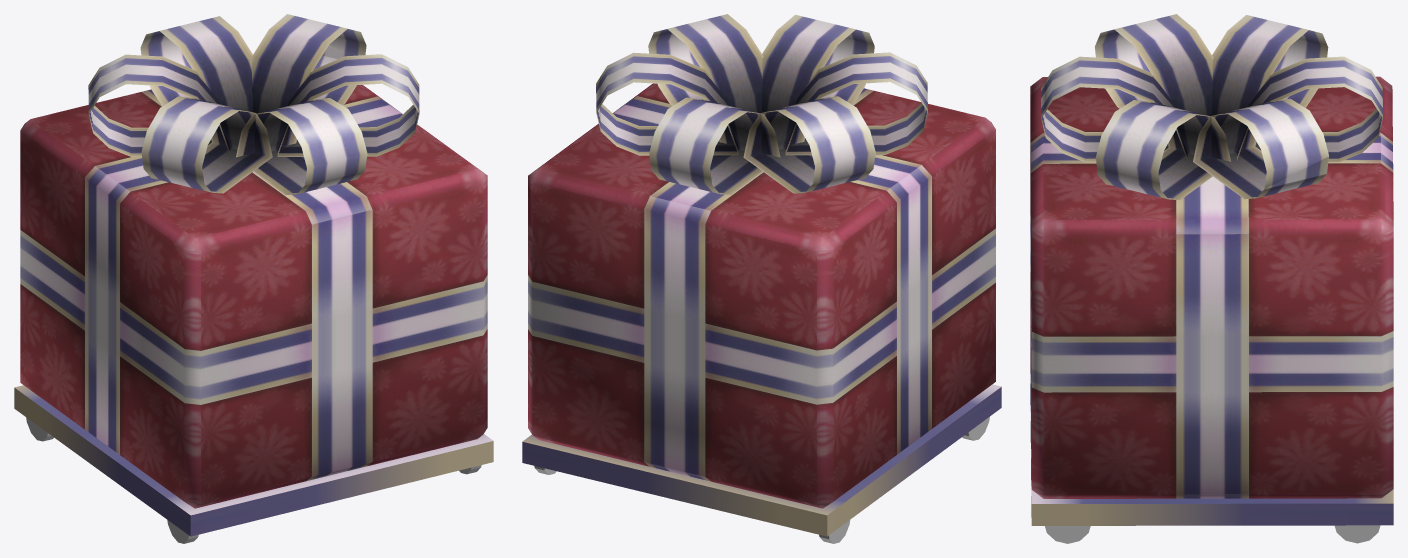
The model's file is box_gift.fbx.
The picture shows the model from 3 angles, left to right: view 1: azimuth 30°, elevation 25°; view 2: azimuth 150°, elevation 25°; view 3: azimuth 270°, elevation 25°; orthographic projection. The views are drawn at different scales.
Visible parts, largest first — view 1: polygon4, polygon5; view 2: polygon4, polygon5; view 3: polygon4, polygon5.
Part boxes in pixels (x1,y1,x2,y2): polygon4: (14,14,493,536); polygon5: (26,417,481,543); polygon4: (522,14,1001,536); polygon5: (534,417,989,543); polygon4: (1030,14,1393,525); polygon5: (1045,525,1380,543).
Bounding box in the file's own units: 5.42 × 6.58 × 5.42.
